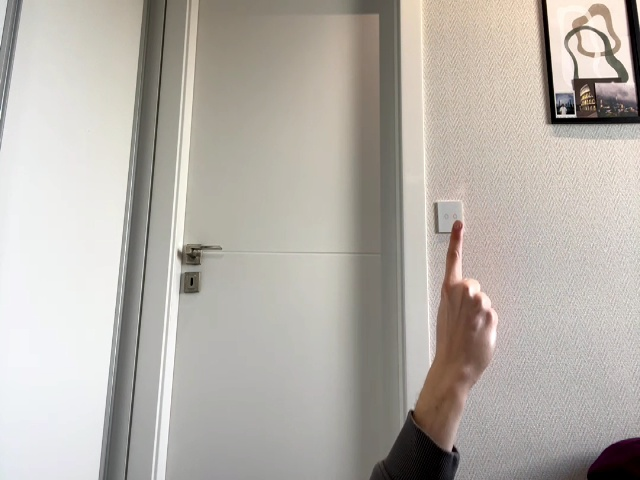D: (433, 219, 499, 378)
